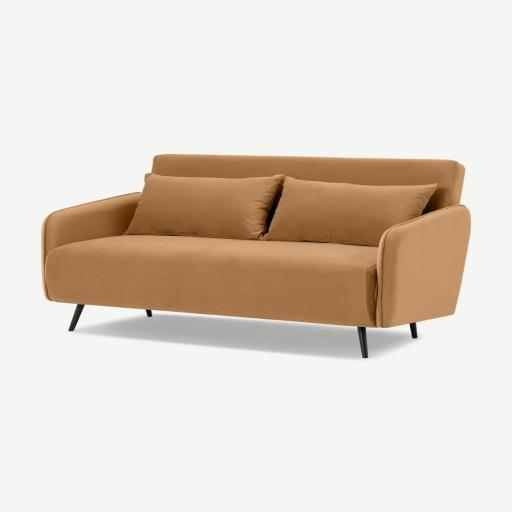back_cushion: (125, 173, 437, 246)
left_arm: (375, 205, 470, 327)
legs: (68, 304, 83, 331), (358, 327, 367, 358), (411, 323, 416, 338), (146, 310, 152, 317)
right_arm: (42, 193, 139, 300)
seat_cushion: (46, 235, 376, 327)
two-seater: (0, 0, 511, 512)
